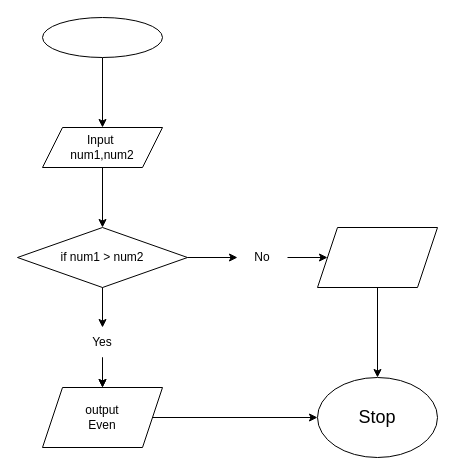
Image size: 455x475. Some labels were removed from this diagram. Each missing label, with the centre of its shape:
Output Odd: (x=377, y=257)
Start: (x=102, y=37)
